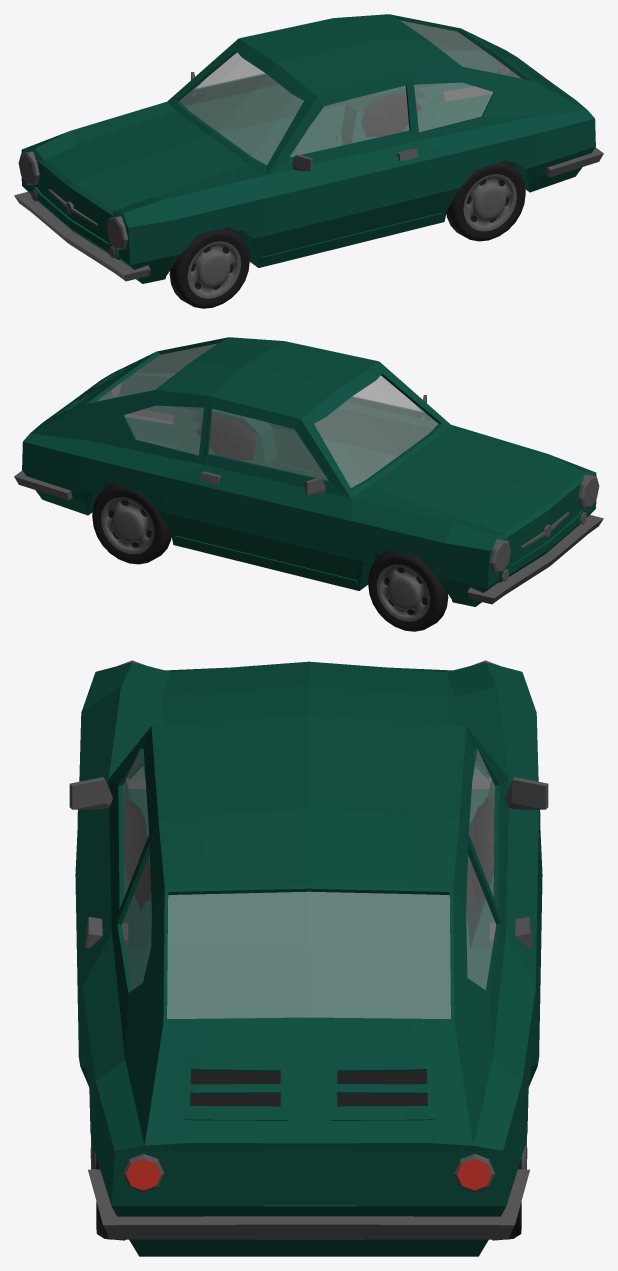
The model's file is car.fbx.
3 renders of one model, top to bottom at view 1: azimuth 30°, elevation 25°; view 2: azimuth 150°, elevation 25°; view 3: azimuth 270°, elevation 25°, orthographic. The views are drawn at different scales.
Parts seen in each view (by area): view 1: polySurface242, polySurface253, polySurface240, polySurface239, polySurface243, polySurface248; view 2: polySurface242, polySurface241, polySurface239, polySurface240, polySurface248, polySurface243; view 3: polySurface242, polySurface241, polySurface253, polySurface245, polySurface250, polySurface247, polySurface252.
Boxes of the visible parts, x1=… form: polySurface242: x1=14, y1=14, x2=603, y2=283; polySurface253: x1=169, y1=227, x2=249, y2=308; polySurface240: x1=446, y1=160, x2=525, y2=241; polySurface239: x1=361, y1=94, x2=421, y2=137; polySurface243: x1=107, y1=216, x2=128, y2=249; polySurface248: x1=18, y1=151, x2=39, y2=185; polySurface242: x1=14, y1=337, x2=603, y2=606; polySurface241: x1=368, y1=550, x2=448, y2=631; polySurface239: x1=92, y1=483, x2=171, y2=564; polySurface240: x1=196, y1=416, x2=255, y2=460; polySurface248: x1=489, y1=539, x2=510, y2=572; polySurface243: x1=578, y1=474, x2=599, y2=508; polySurface242: x1=75, y1=661, x2=542, y2=1256; polySurface241: x1=467, y1=798, x2=494, y2=910; polySurface253: x1=123, y1=798, x2=150, y2=910; polySurface245: x1=69, y1=777, x2=112, y2=809; polySurface250: x1=505, y1=777, x2=548, y2=809; polySurface247: x1=123, y1=1153, x2=163, y2=1192; polySurface252: x1=454, y1=1153, x2=494, y2=1192.
Size of the model in its own units: 206 by 72.67 by 87.43.
